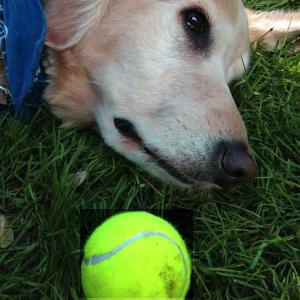TennisBall: (81, 210, 195, 300)
